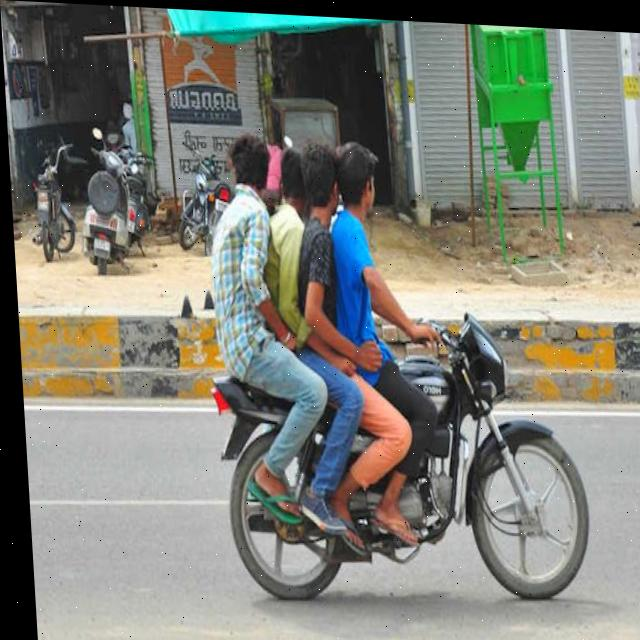without helmet: (224, 125, 383, 219)
